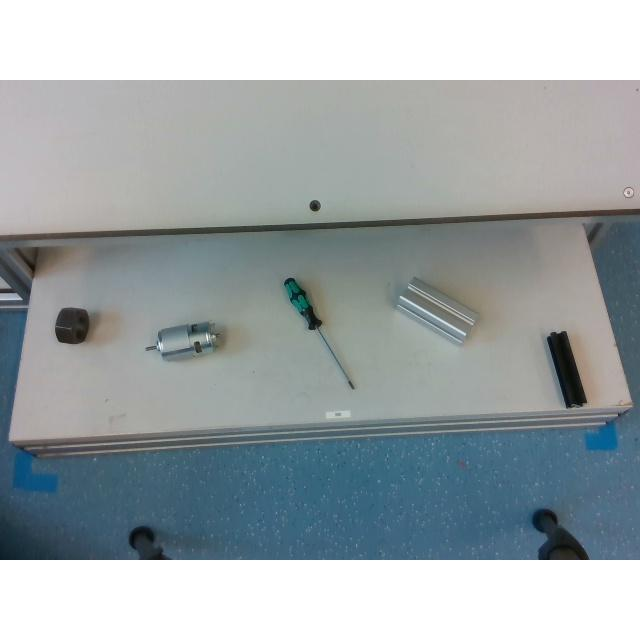F20_20_B: (547, 332, 585, 404)
M30: (54, 306, 90, 342)
Motor2: (146, 321, 218, 359)
S40_40_G: (396, 278, 476, 342)
Screwdriver: (282, 278, 354, 387)
